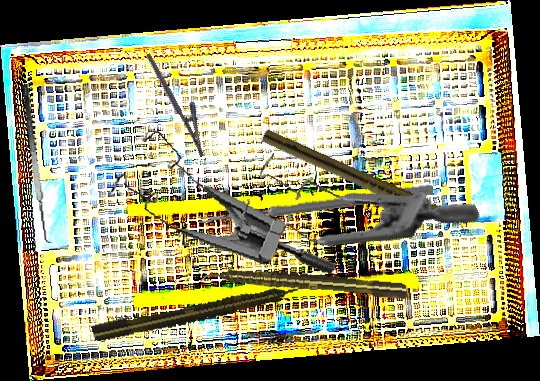Handpiece: (258, 128, 473, 237), (90, 279, 308, 344), (199, 263, 410, 302)
Needle Holder: (145, 45, 219, 158)
Spatula Surgical: (21, 82, 59, 245)
Speculum: (220, 82, 483, 317), (102, 122, 354, 279)
Surgical Spoon: (198, 182, 434, 228)
